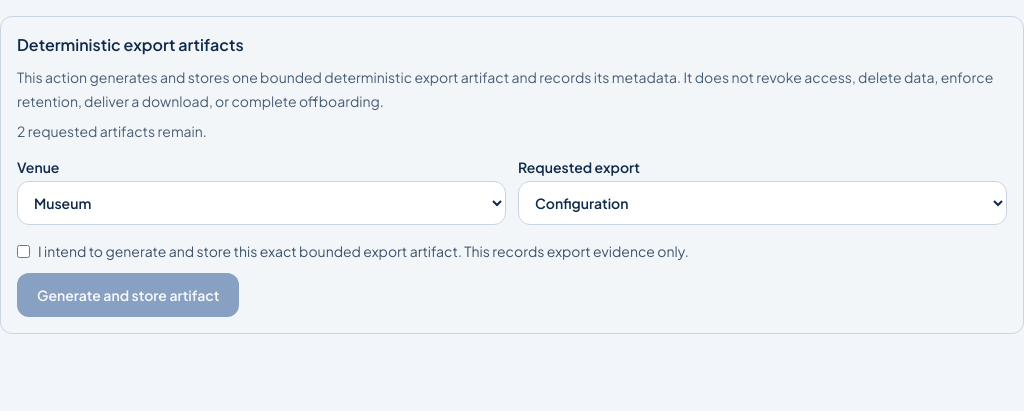
Test: OffboardingExportFinalizer › purges a definitive conflict identity and locks the stale projection
This screenshot has width=1024, height=411.
What coordinates should you click on to do the following:
click the checkbox
I would click on:
 (24, 252)
Its box is [17, 245, 30, 258].
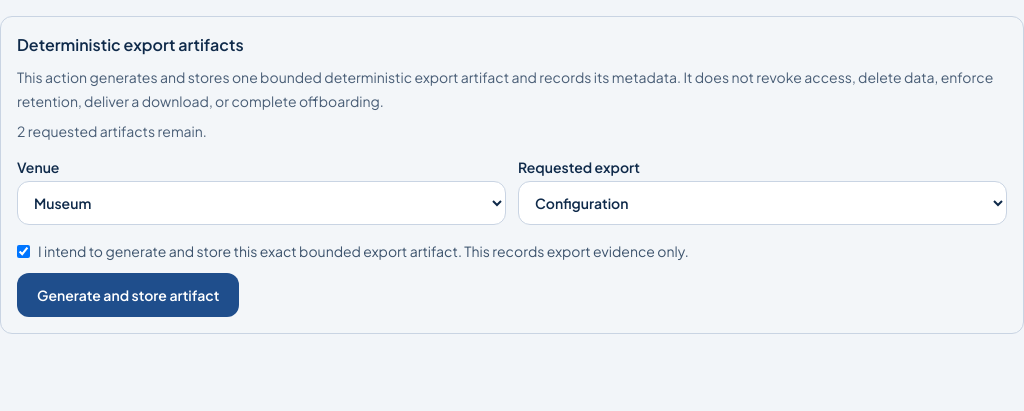
What coordinates should you click on to do the following:
click the button "Generate and store artifact"
I would click on:
 (128, 295)
Its box is [17, 273, 240, 317].
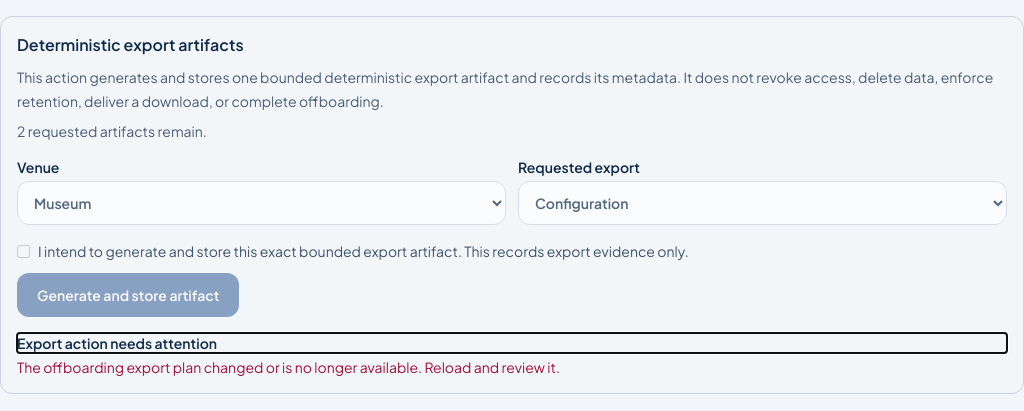
Now the text "plan changed or is no longer available" is shown, box [17, 358, 560, 376]
Now the button "Generate and store artifact" is disabled, box [17, 273, 240, 317]
